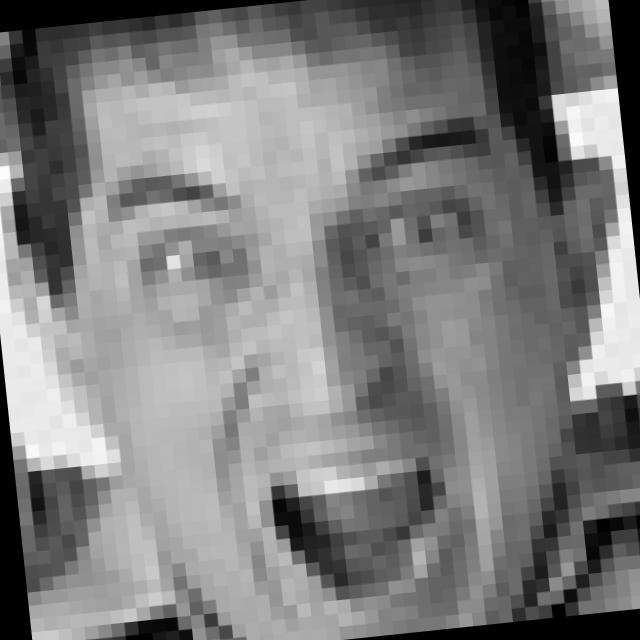angry: (94, 113, 537, 640)
